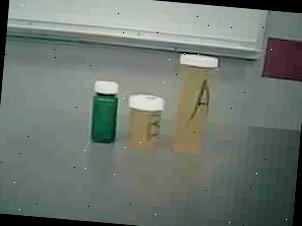Bottle A: (165, 49, 232, 163)
Bottle B: (124, 90, 168, 150)
Bottle C: (84, 74, 124, 148)
